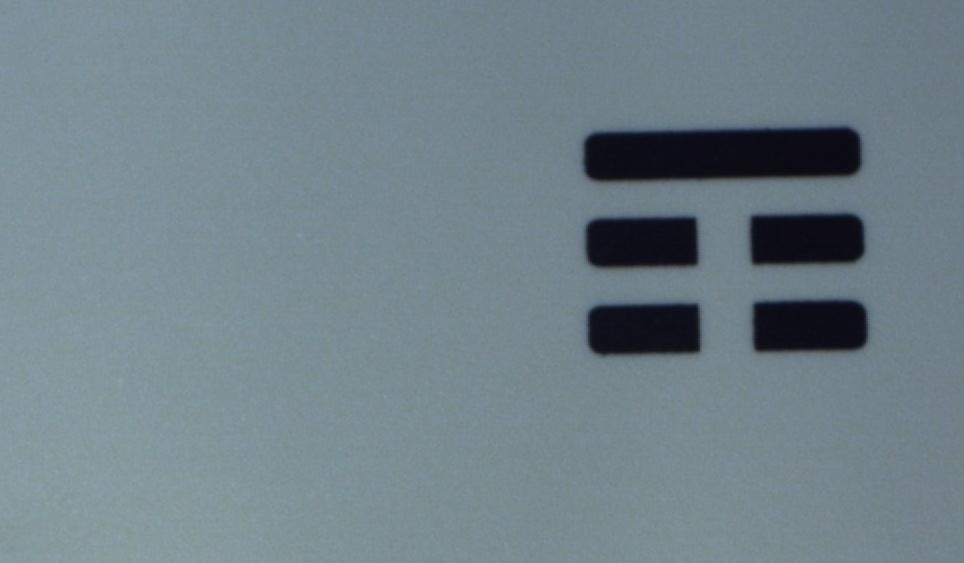BV_F6600PTIM: (558, 102, 884, 373)
